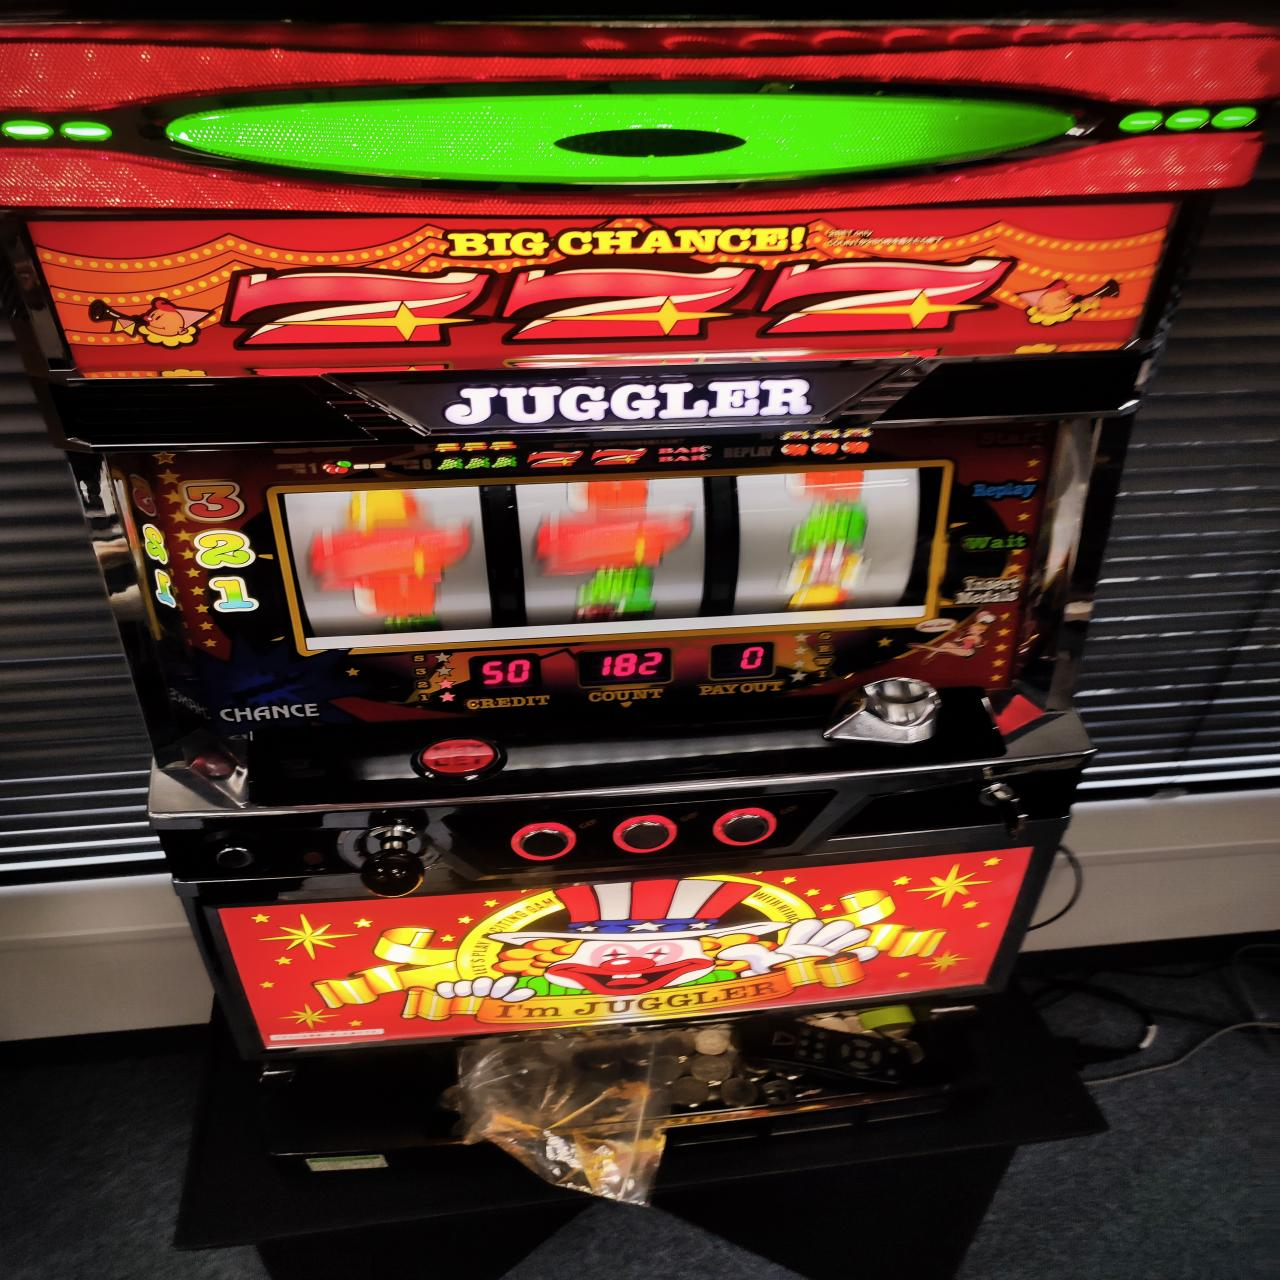rhino: (261, 463, 954, 624)
